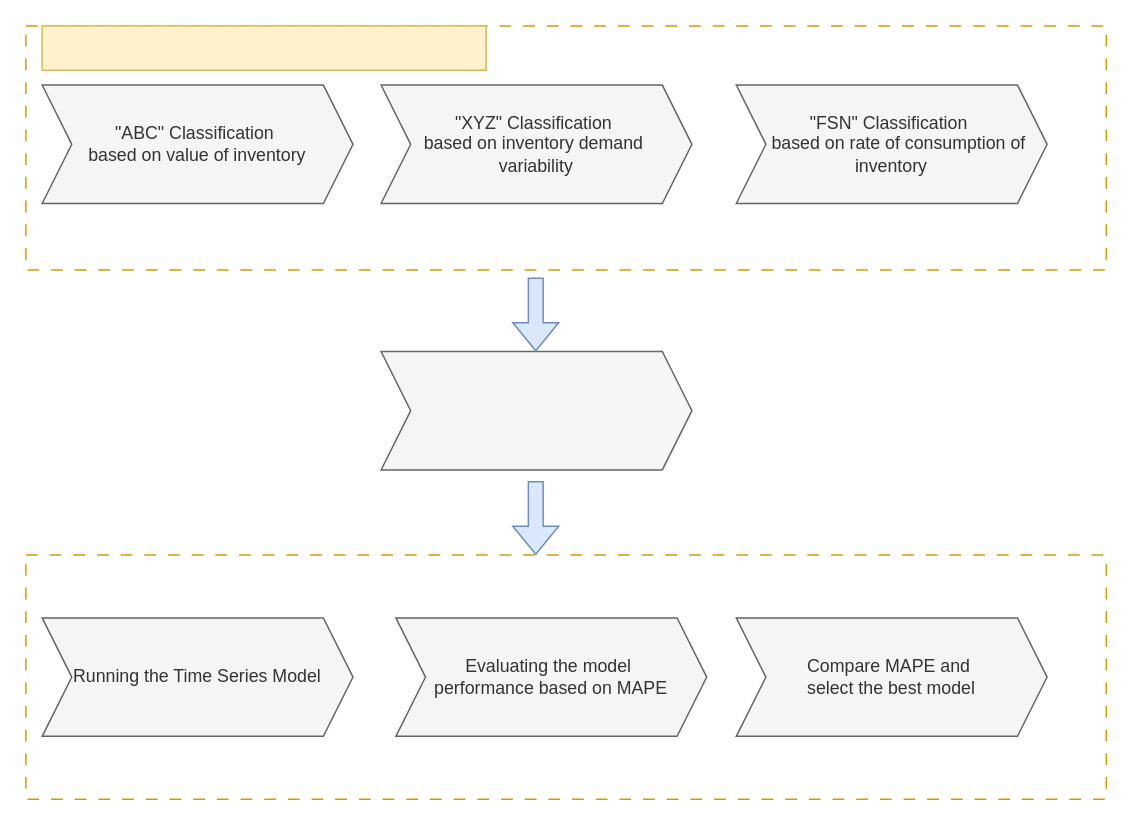
This 1132x826 diagram has some shape labels left out. Each missing label, with the box of its shape:
Roadmap: (41, 24, 486, 70)
Segmentation of inventory as AFX, AFY, AFZ & BFX groups: (380, 350, 692, 470)
